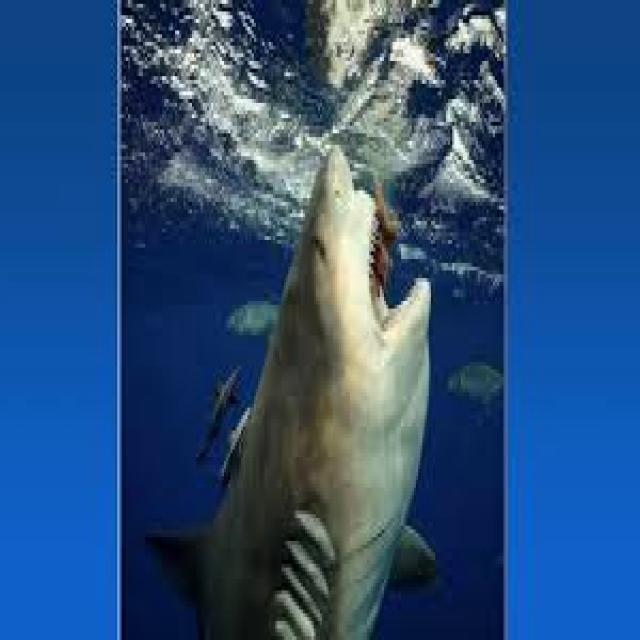shark: (149, 149, 435, 636)
